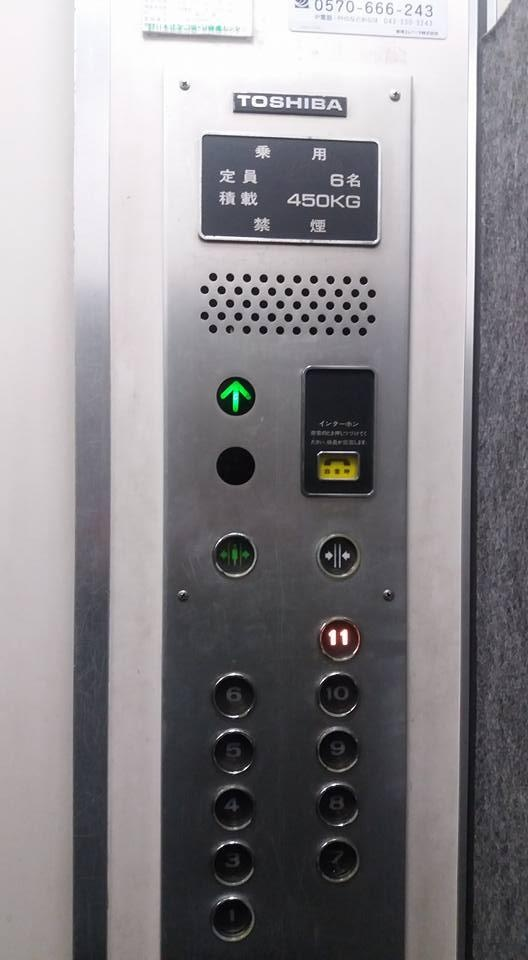1: (207, 891, 257, 944)
10: (313, 669, 363, 720)
11: (315, 614, 363, 665)
3: (207, 837, 257, 888)
4: (210, 782, 258, 833)
5: (209, 727, 258, 777)
6: (209, 671, 259, 721)
8: (313, 780, 362, 830)
9: (314, 724, 361, 776)
blur: (313, 834, 362, 886)
call: (312, 446, 364, 484)
close: (313, 531, 363, 584)
empty: (213, 443, 257, 489)
open: (210, 528, 259, 583)
up: (214, 373, 262, 421)
